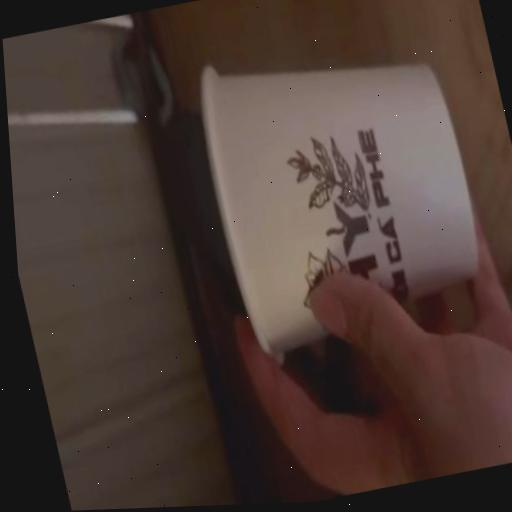ly_giay: (203, 63, 477, 356)
